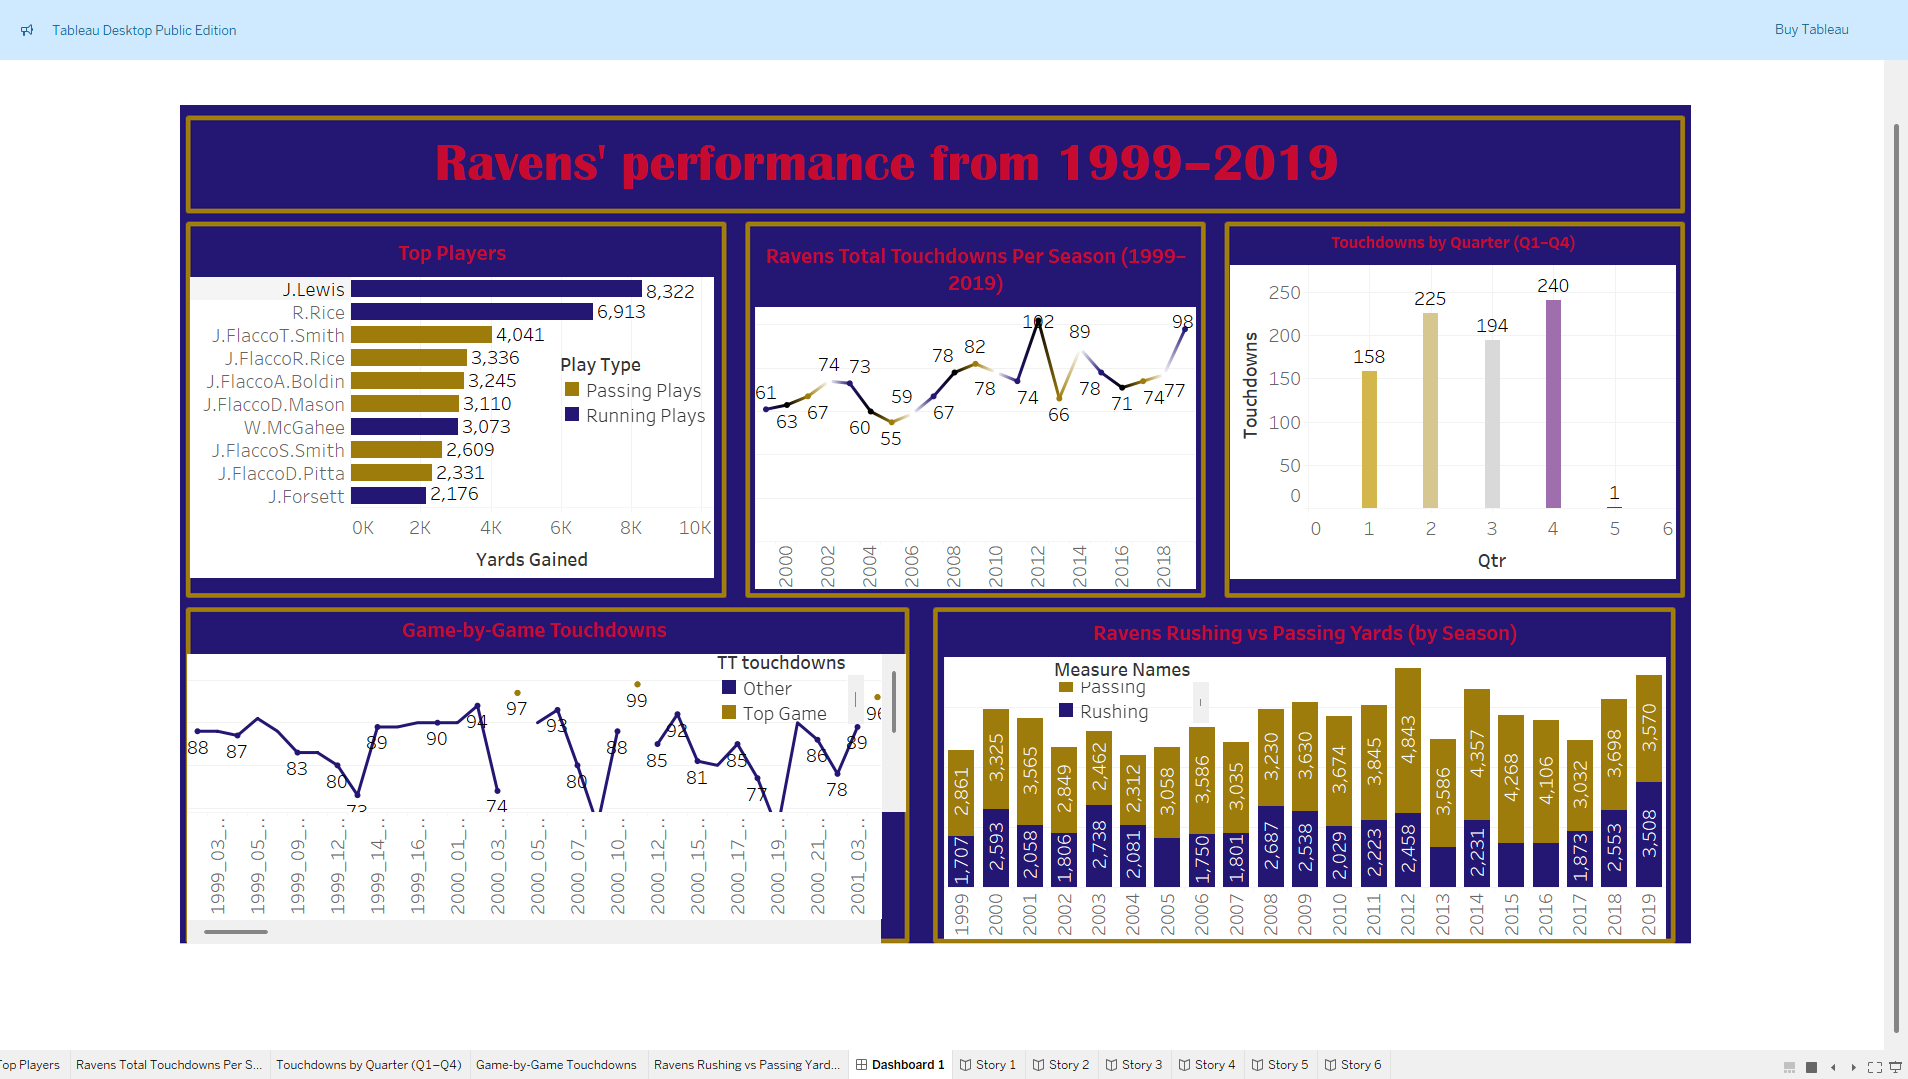

The page's visual inventory and layout, read from the dashboard file:
{"tool":"tableau","page":{"name":"Dashboard 1","canvas":[1535,1041],"ordinal":0},"visuals":[{"type":"image","param":"Image/Slide1.PNG","box":[8,8,1519,1025]},{"type":"text","box":[140,107,1157,92]},{"type":"worksheet","title":"Touchdowns by Quarter (Q1–Q4)","mark":"Bar","rows":["touchdowns"],"cols":["qtr"],"box":[1062,219,446,351]},{"type":"worksheet","title":"Top Players","mark":"Automatic","rows":["player_name"],"cols":["yards_gained"],"box":[22,226,524,359]},{"type":"worksheet","title":"Ravens Total Touchdowns Per Season (1999–2019)","mark":"Line","rows":["total_touchdowns"],"cols":["season"],"box":[587,229,441,351]},{"type":"legend","title":"Top Players","param":"[federated.0wy4dsz034ku3p19he1tx1eda8we].[none:play_type:nk]","box":[392,342,151,76]},{"type":"worksheet","title":"Game-by-Game Touchdowns","mark":"Line","rows":["total_touchdowns"],"cols":["game_id"],"box":[19,603,719,332]},{"type":"worksheet","title":"Ravens Rushing vs Passing Yards (by Season)","mark":"Bar","cols":["season"],"box":[776,606,722,324]},{"type":"legend","title":"Game-by-Game Touchdowns","param":"[federated.04u7ofg1mam8370zysv8o1ur0zus].[none:Calculation_709598418470285317:nk","box":[549,640,149,75]},{"type":"legend","title":"Ravens Rushing vs Passing Yards (by Season)","param":"[federated.1j5ukzi0a4ski41ax91vz135elbx].[:Measure Names]","box":[886,647,157,67]}]}

Visuals, with their boxes in screenshot pixels (x1, y1, x2, y2):
image: x1=177 y1=13 x2=1673 y2=1023
text: x1=307 y1=110 x2=1447 y2=201
"Touchdowns by Quarter (Q1–Q4)" worksheet (Bar marks): x1=1215 y1=221 x2=1655 y2=567
"Top Players" worksheet: x1=191 y1=228 x2=707 y2=581
"Ravens Total Touchdowns Per Season (1999–2019)" worksheet (Line marks): x1=747 y1=231 x2=1182 y2=576
"Top Players" legend: x1=555 y1=342 x2=704 y2=417
"Game-by-Game Touchdowns" worksheet (Line marks): x1=188 y1=599 x2=896 y2=926
"Ravens Rushing vs Passing Yards (by Season)" worksheet (Bar marks): x1=933 y1=602 x2=1645 y2=921
"Game-by-Game Touchdowns" legend: x1=710 y1=636 x2=857 y2=709
"Ravens Rushing vs Passing Yards (by Season)" legend: x1=1042 y1=642 x2=1197 y2=708
